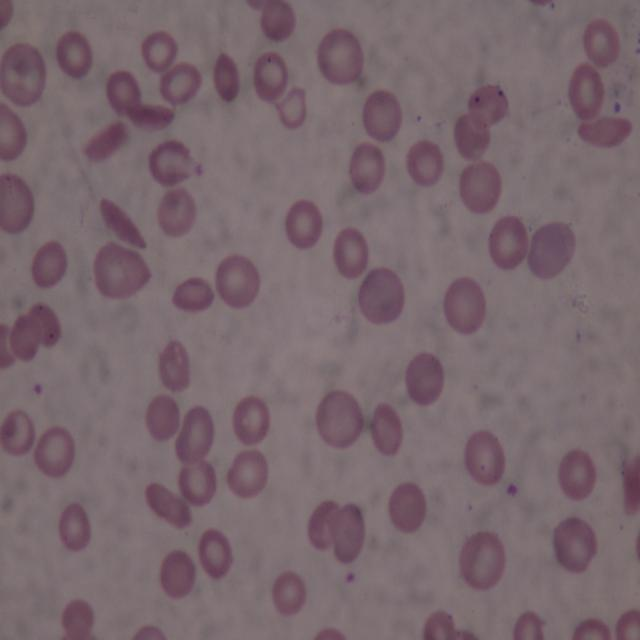Crystal: (80, 117, 130, 165), (146, 482, 192, 530), (576, 115, 634, 148), (170, 276, 216, 312), (125, 103, 175, 133)
Normal: (458, 530, 508, 590), (550, 514, 600, 573), (464, 426, 508, 488), (486, 213, 528, 270), (226, 448, 270, 501), (557, 445, 596, 502), (346, 143, 390, 192), (197, 528, 236, 582), (566, 63, 604, 118), (284, 196, 324, 248), (332, 224, 369, 279), (232, 394, 271, 446), (34, 424, 73, 475), (178, 460, 218, 508), (55, 28, 92, 79), (582, 18, 621, 64), (253, 51, 288, 102), (160, 62, 202, 104), (407, 138, 442, 187), (138, 28, 176, 72), (104, 68, 139, 113), (1, 410, 35, 456), (272, 569, 306, 614), (59, 502, 89, 552), (574, 619, 612, 640), (615, 607, 640, 638)
Others: (92, 240, 155, 299), (312, 386, 366, 449), (442, 272, 487, 339), (526, 219, 577, 278), (1, 41, 45, 108), (316, 27, 365, 87), (212, 252, 262, 310), (356, 266, 404, 324), (149, 140, 205, 189), (326, 501, 366, 565), (458, 161, 502, 216), (176, 402, 217, 461), (405, 350, 444, 407), (0, 170, 34, 235), (363, 87, 402, 142), (368, 399, 403, 458), (158, 548, 196, 602), (389, 480, 427, 534), (156, 187, 196, 236), (31, 236, 69, 287), (157, 338, 193, 391), (469, 84, 508, 129), (454, 113, 490, 161), (145, 393, 180, 442), (29, 300, 65, 346), (306, 499, 339, 548), (213, 50, 241, 106), (9, 314, 43, 360), (260, 0, 296, 42), (0, 103, 26, 161), (61, 597, 94, 639), (621, 450, 640, 521), (277, 85, 307, 129), (420, 608, 460, 640), (517, 609, 544, 640), (313, 623, 352, 640), (133, 622, 169, 640)
Sickle: (99, 197, 148, 251)
